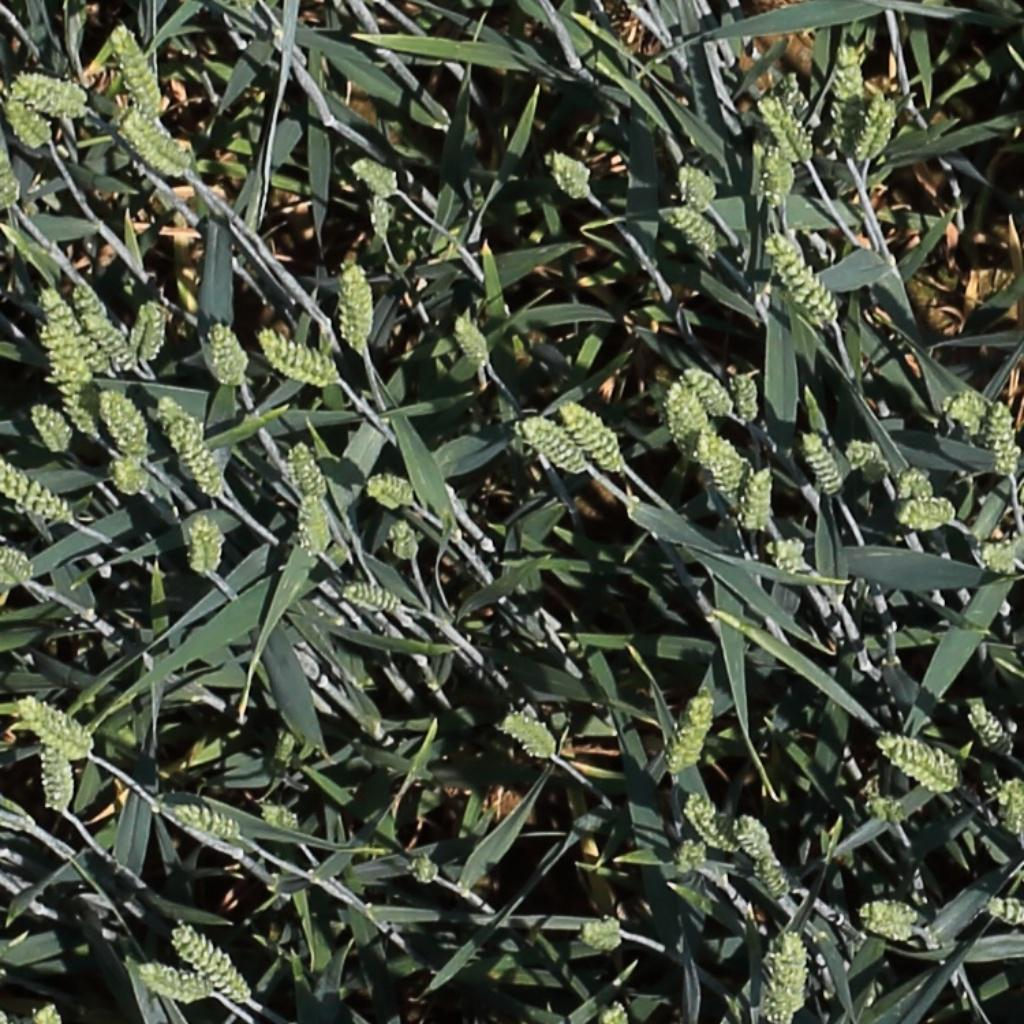0-0: (767, 226, 843, 327), (690, 425, 756, 541), (43, 306, 99, 432), (172, 922, 255, 1007), (118, 109, 200, 194), (77, 276, 148, 370), (159, 409, 228, 502), (107, 17, 165, 122), (873, 728, 961, 790), (559, 397, 628, 475), (939, 383, 1008, 454), (0, 454, 70, 522), (669, 688, 718, 782), (96, 385, 150, 469), (826, 43, 864, 161), (759, 87, 816, 165), (15, 699, 90, 756), (258, 329, 338, 382), (339, 256, 378, 364), (10, 75, 94, 125), (766, 926, 809, 1022), (664, 373, 709, 462), (963, 694, 1018, 764), (684, 794, 744, 858), (520, 417, 589, 472), (800, 425, 849, 502), (856, 84, 899, 166), (204, 316, 248, 391), (39, 733, 76, 821), (663, 202, 723, 256), (2, 91, 55, 150), (128, 296, 167, 371), (182, 512, 226, 578), (25, 398, 73, 458), (289, 435, 329, 506), (450, 308, 495, 371), (734, 812, 780, 871), (501, 714, 558, 761), (136, 965, 214, 999), (994, 405, 1024, 493), (844, 435, 890, 491), (170, 808, 245, 842), (299, 488, 333, 562), (856, 898, 917, 939), (745, 461, 776, 540), (756, 851, 797, 910), (369, 465, 417, 515), (543, 147, 593, 195), (678, 157, 720, 214), (763, 136, 793, 215), (895, 494, 957, 531), (342, 579, 405, 614), (974, 535, 1024, 578), (574, 915, 625, 953), (268, 723, 300, 783), (733, 364, 761, 432), (998, 775, 1024, 846), (352, 155, 400, 193), (109, 451, 148, 496), (898, 464, 936, 507), (367, 185, 394, 245), (0, 137, 19, 214), (390, 514, 417, 566), (259, 802, 301, 835), (0, 546, 32, 584), (410, 851, 439, 891), (987, 899, 1024, 924), (31, 1000, 62, 1024)
